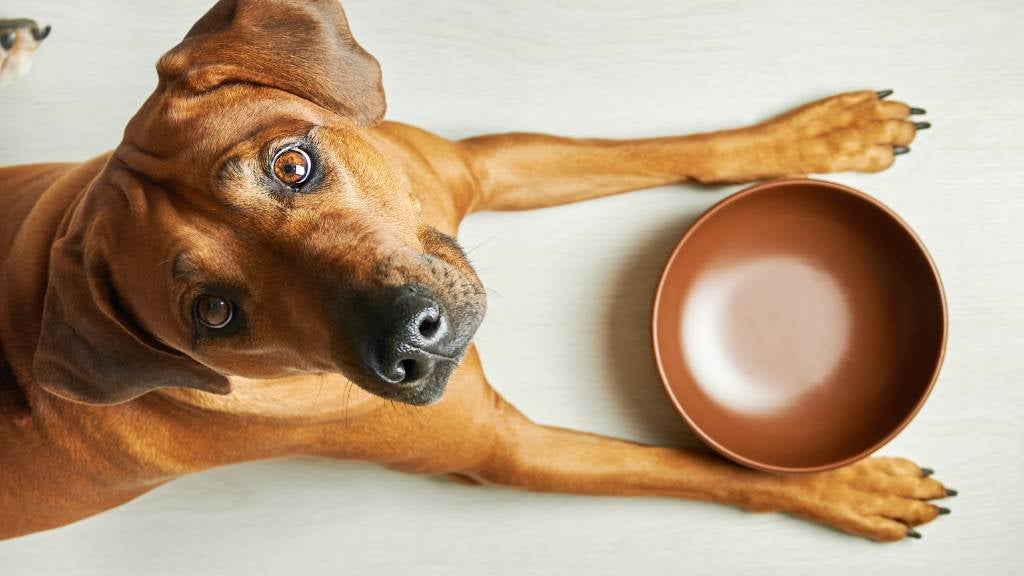Dog: (8, 11, 963, 552)
